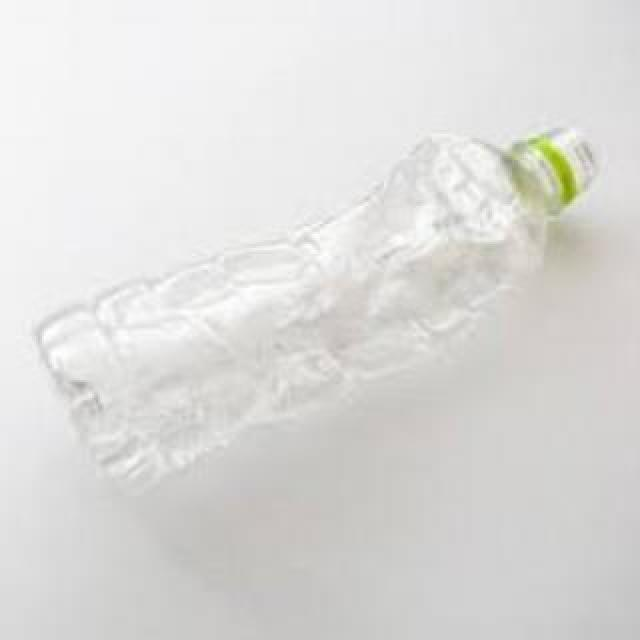Pet_Bottle: (29, 118, 603, 498)
